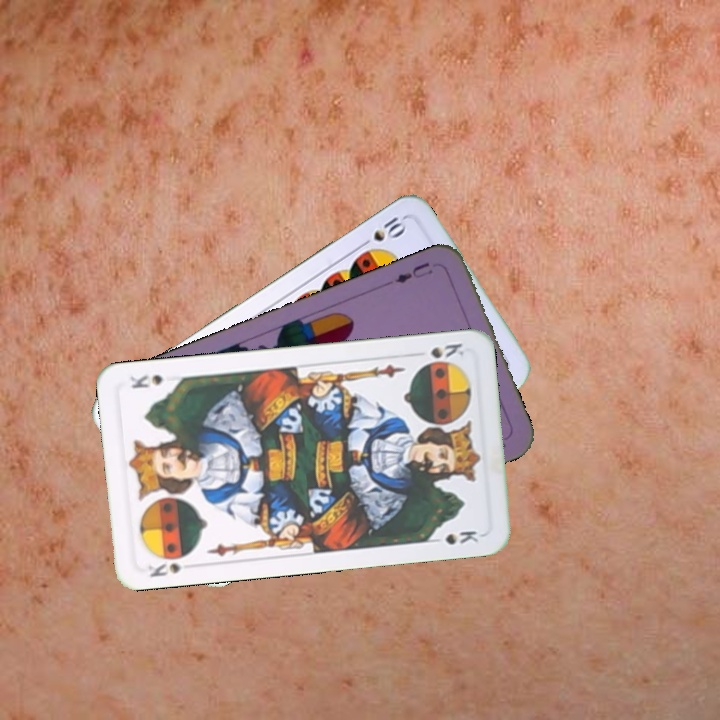EU: (391, 258, 435, 286)
S10: (355, 212, 410, 251)
SK: (426, 339, 467, 361), (144, 559, 183, 580)
